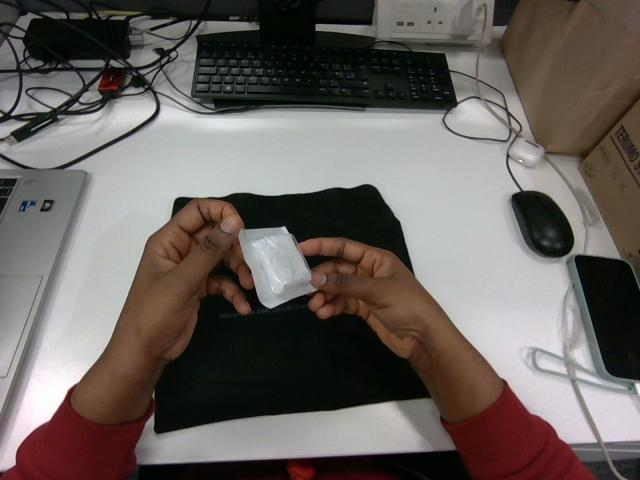gauze: (239, 227, 315, 307)
